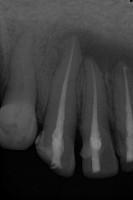Furcation Involvement: (55, 26, 133, 73)
